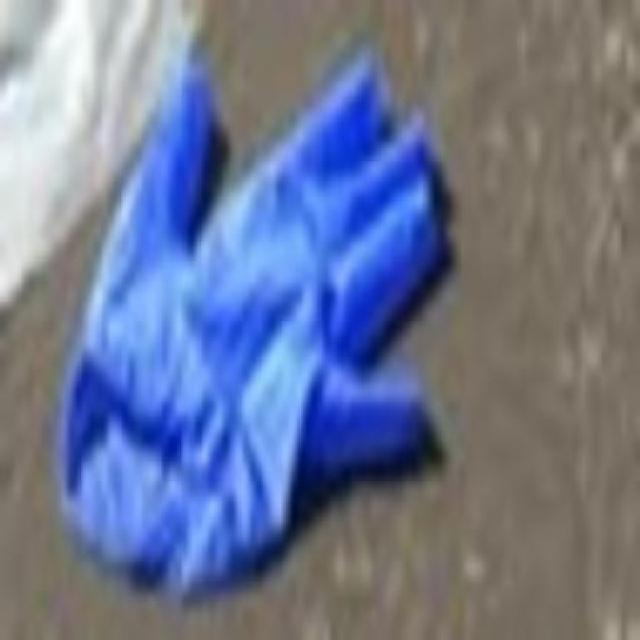glove_hand: (57, 61, 456, 607)
